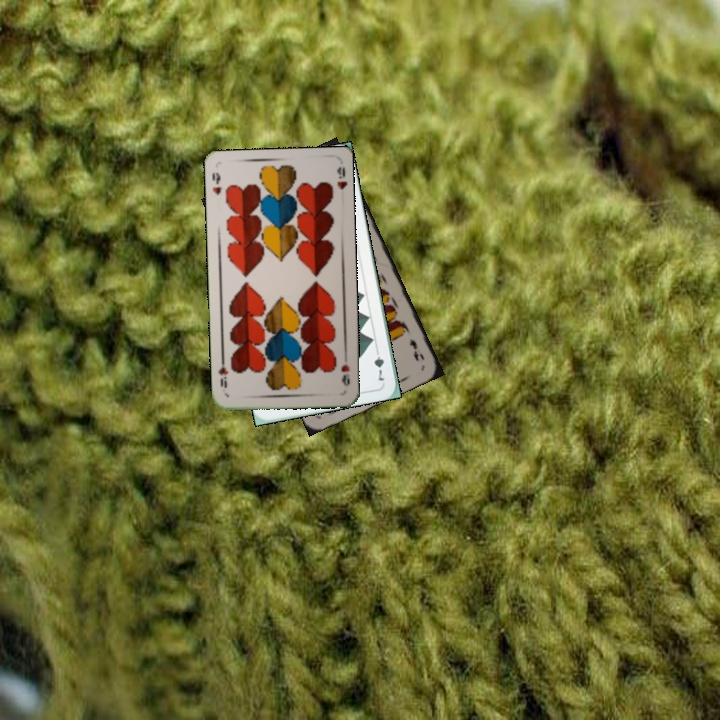E9: (405, 334, 427, 364)
G7: (370, 344, 387, 384)
H9: (337, 350, 352, 389), (208, 169, 224, 198)
